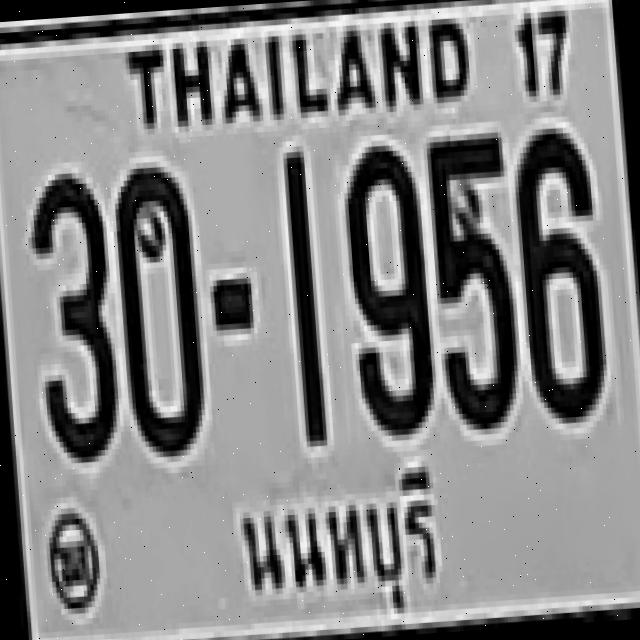0: (110, 160, 206, 453)
1: (279, 148, 324, 444)
3: (23, 168, 119, 462)
5: (422, 129, 518, 429)
6: (508, 120, 604, 420)
9: (340, 138, 432, 432)
Nonthaburi: (223, 457, 458, 636)
